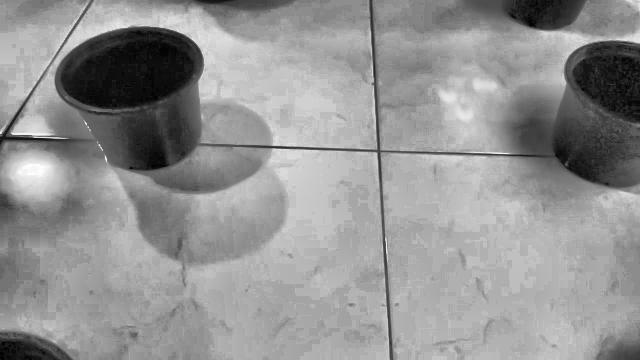pot: (55, 27, 204, 170), (551, 41, 640, 187)
